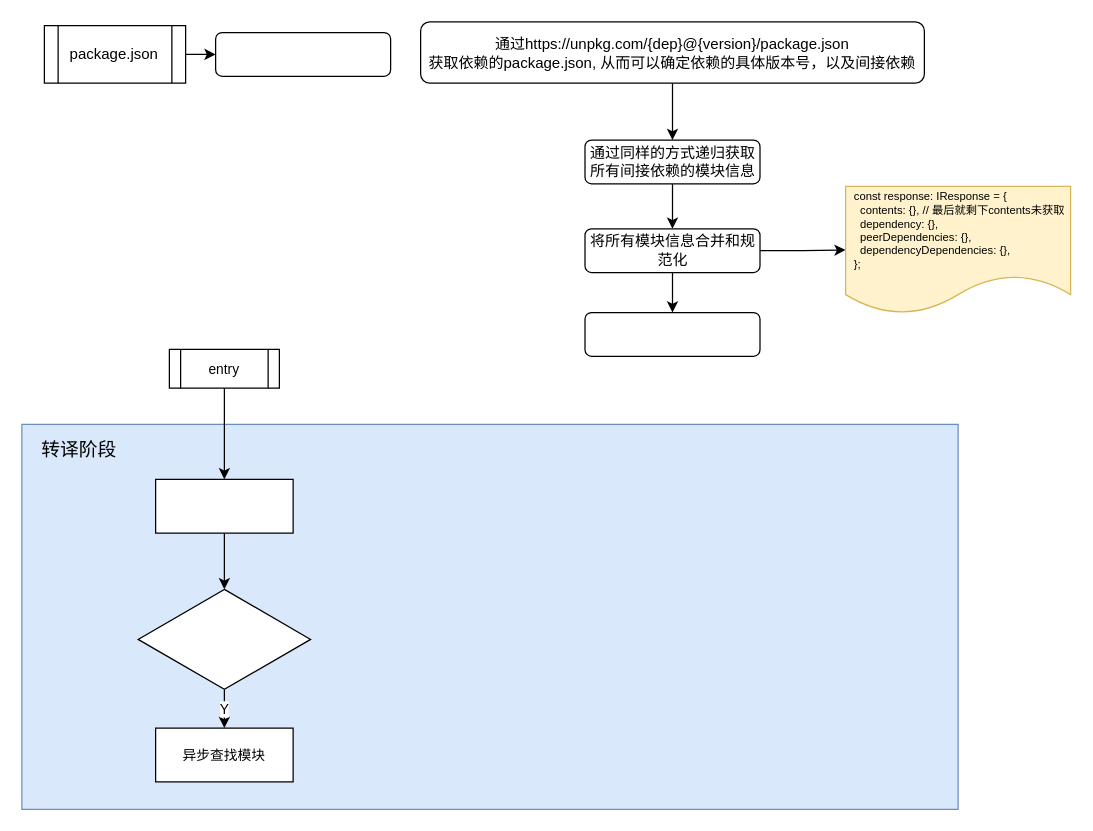
The diagram is 1093 pixels wide and 831 high, and some of its shapes have lost their labels. Here are the shapes that lost their labels. From the top down, the centre of each, then its label:
At point 302,53: "提取‘dependencies’依赖并剔除‘@types/*’".
At point 672,333: "现在拥有除了代码之外的模块信息".
At point 223,505: "babel转译".
At point 224,638: "模块查找没有找到？".
